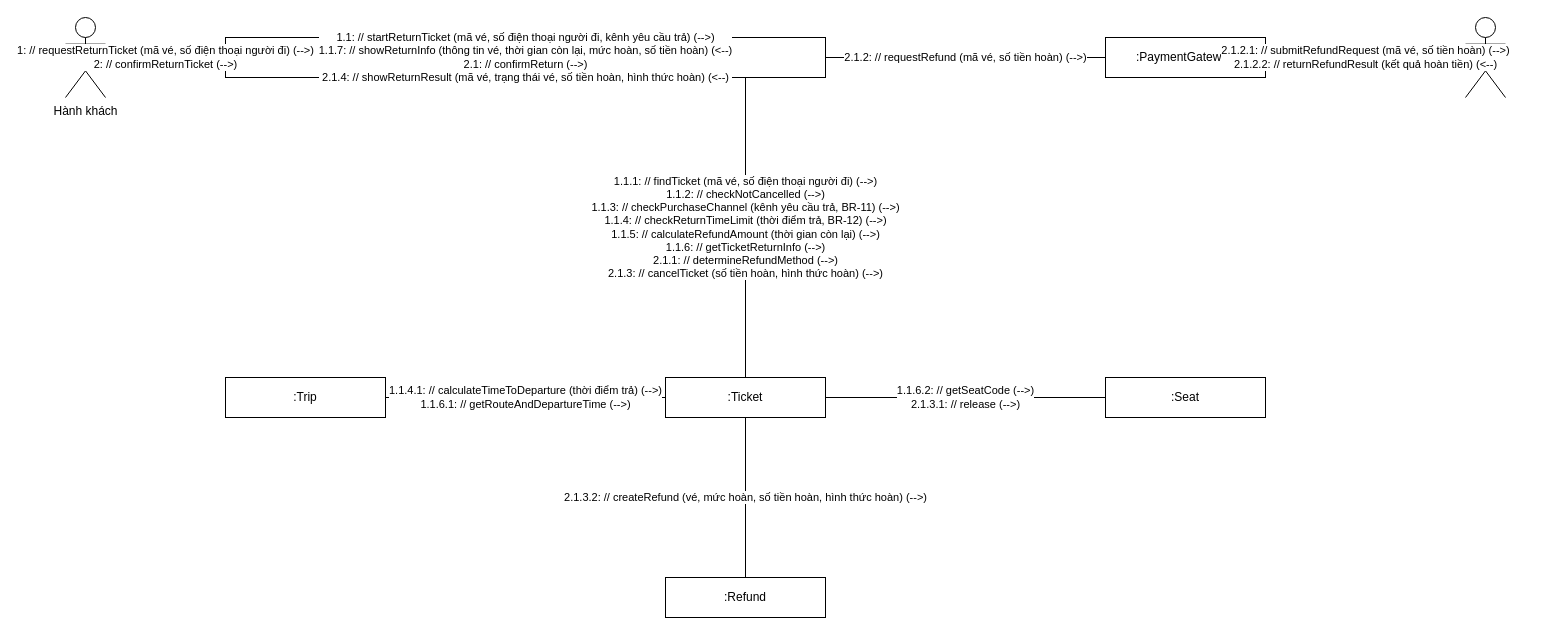
Image size: 1547x635. Some labels were removed from this diagram. The centre of each missing label's shape, as x and y in pixels:
":ReturnTicketController" belongs at (x=745, y=57).
":ReturnTicketForm" belongs at (x=305, y=57).
"Cổng thanh toán" belongs at (x=1485, y=57).
